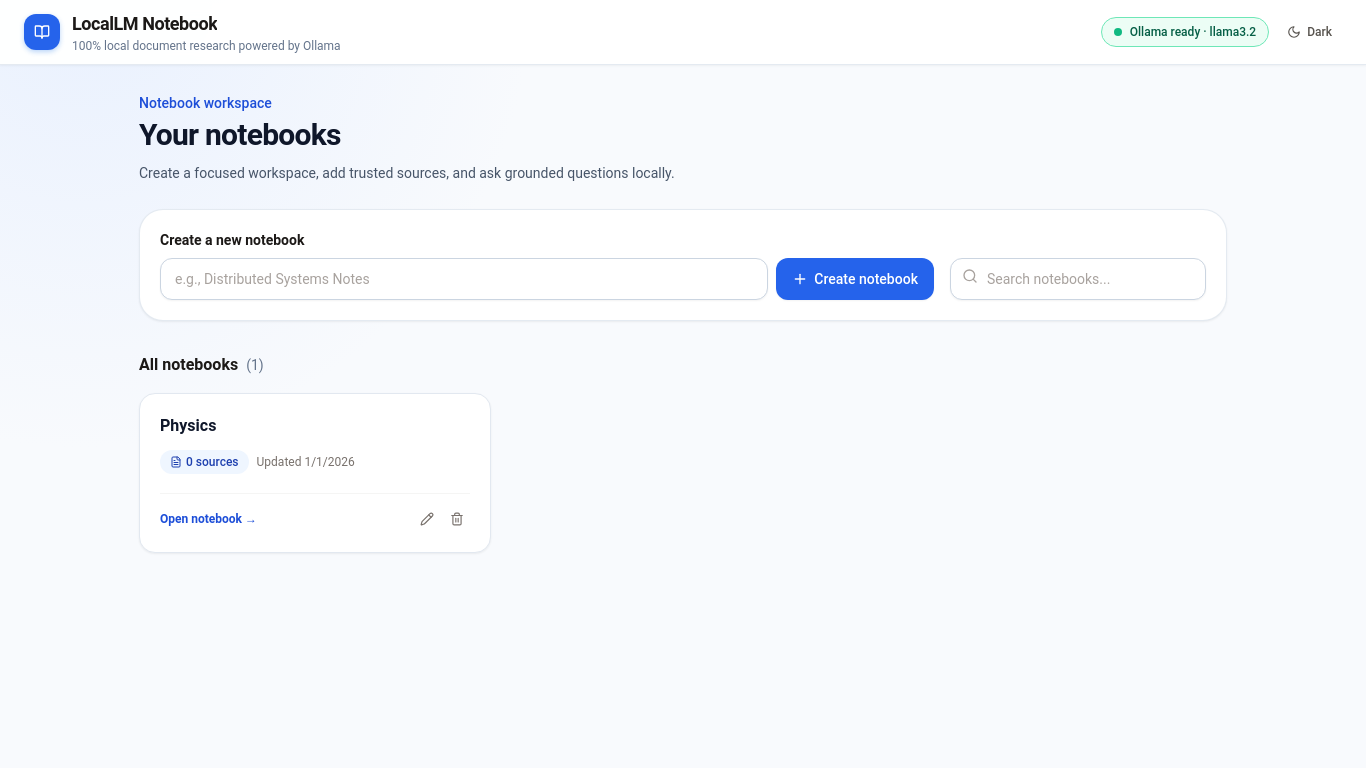
it: App › creates a notebook, opens workspace, and navigates back to home
Type "Physics" into the field labelled "Create a new notebook" at (464, 279), box [160, 258, 768, 300]
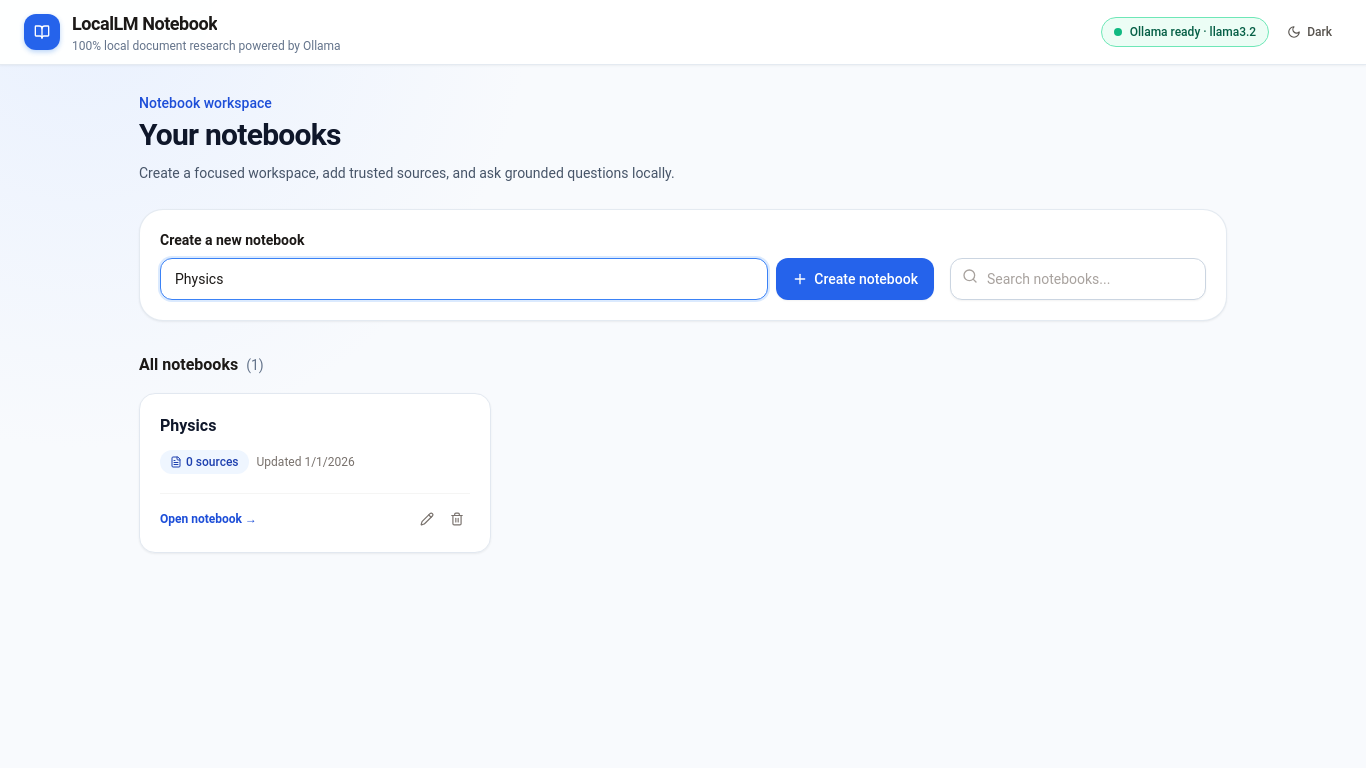
Click the button "Create notebook" at (855, 279), box [776, 258, 934, 300]
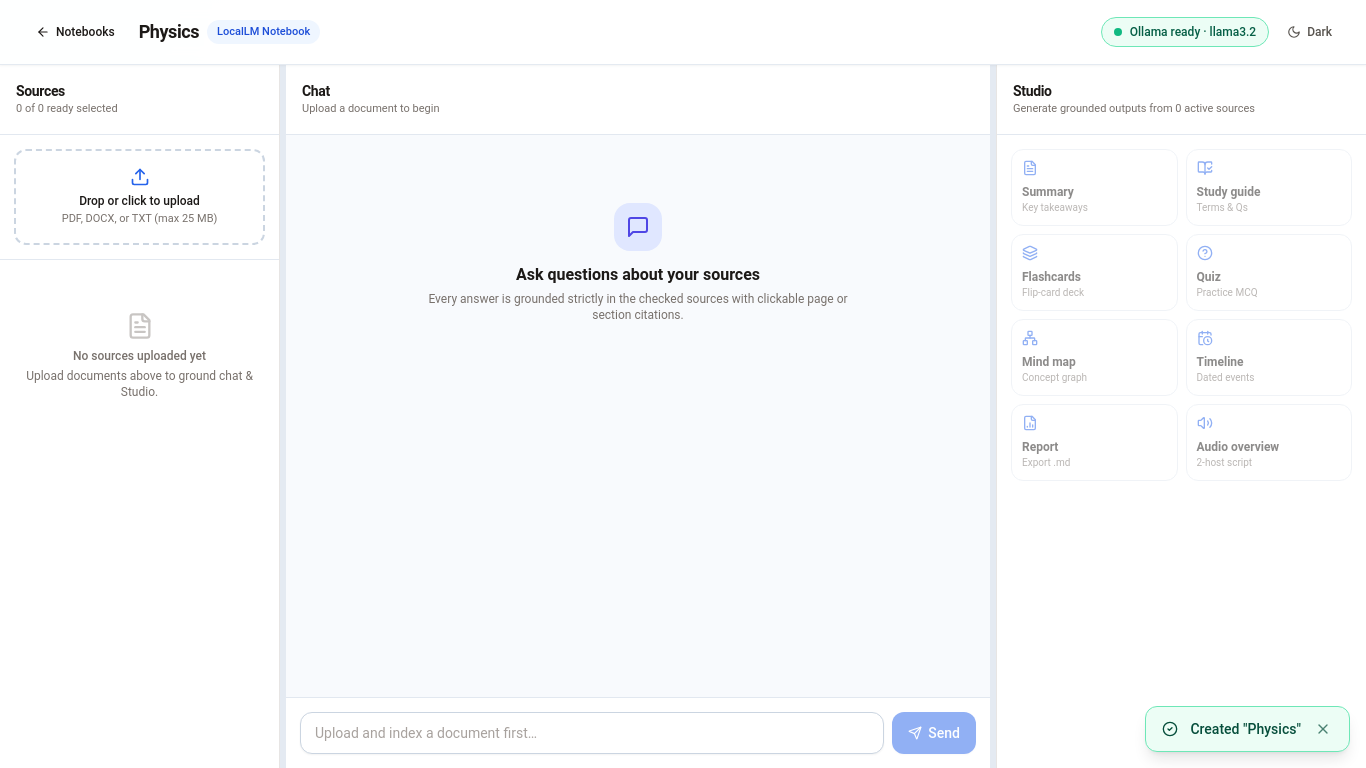
expect the heading "Physics" is shown: met, box [139, 18, 199, 46]
expect the element "Sources" is shown: met, box [0, 65, 279, 767]
expect the element "Studio" is shown: met, box [997, 65, 1365, 767]
Click the button with aria-label "Back to notebooks" at (75, 32), box [24, 16, 127, 48]
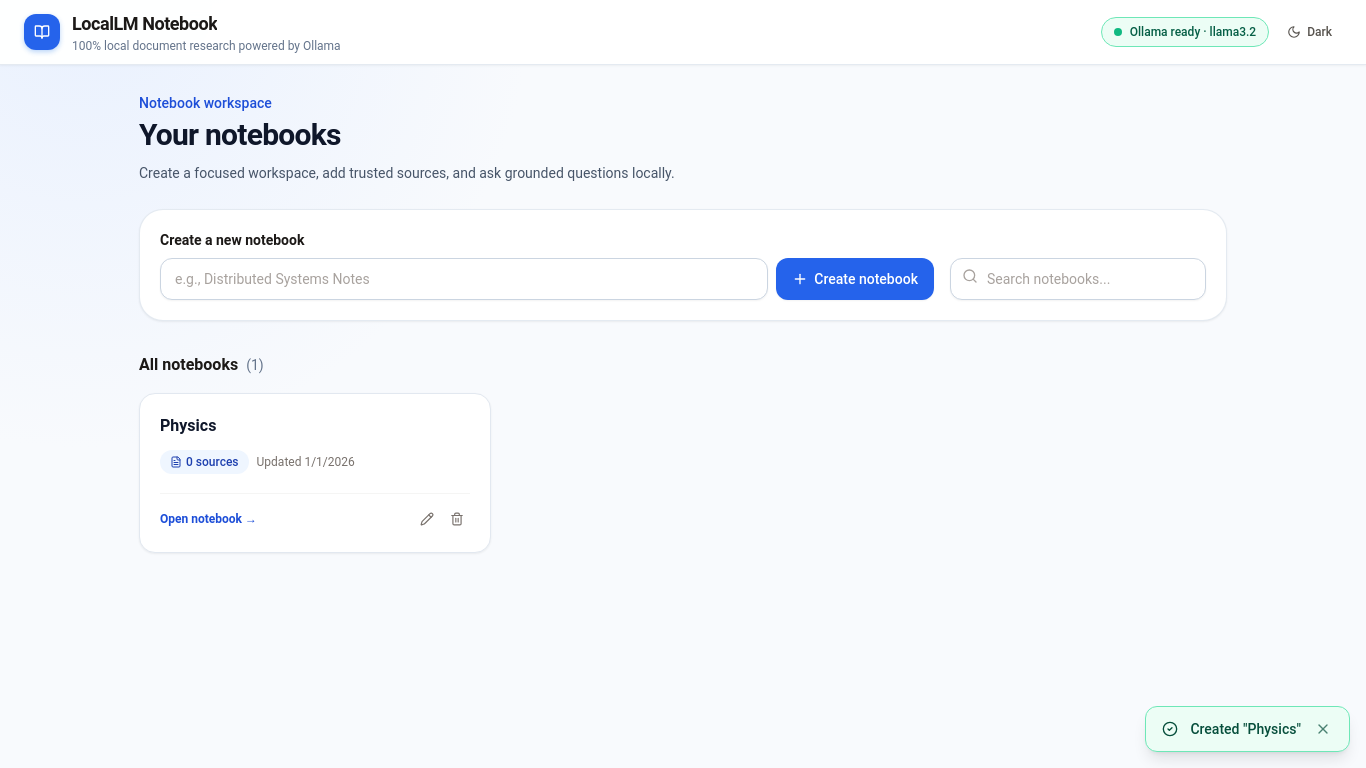
expect the heading "Your notebooks" is shown: met, box [139, 117, 341, 152]
